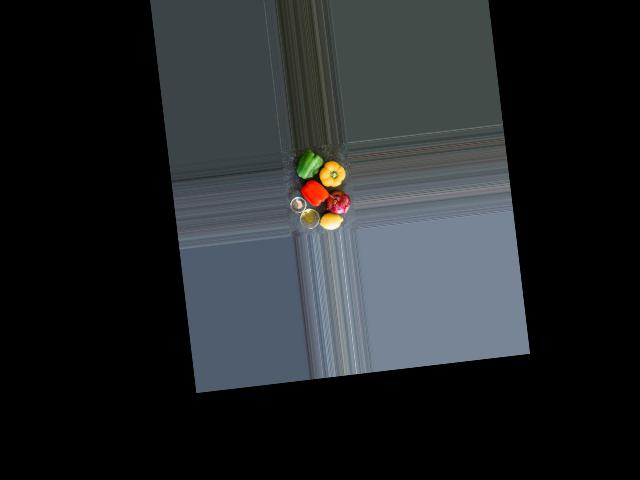bell_pepper: (299, 178, 330, 207)
